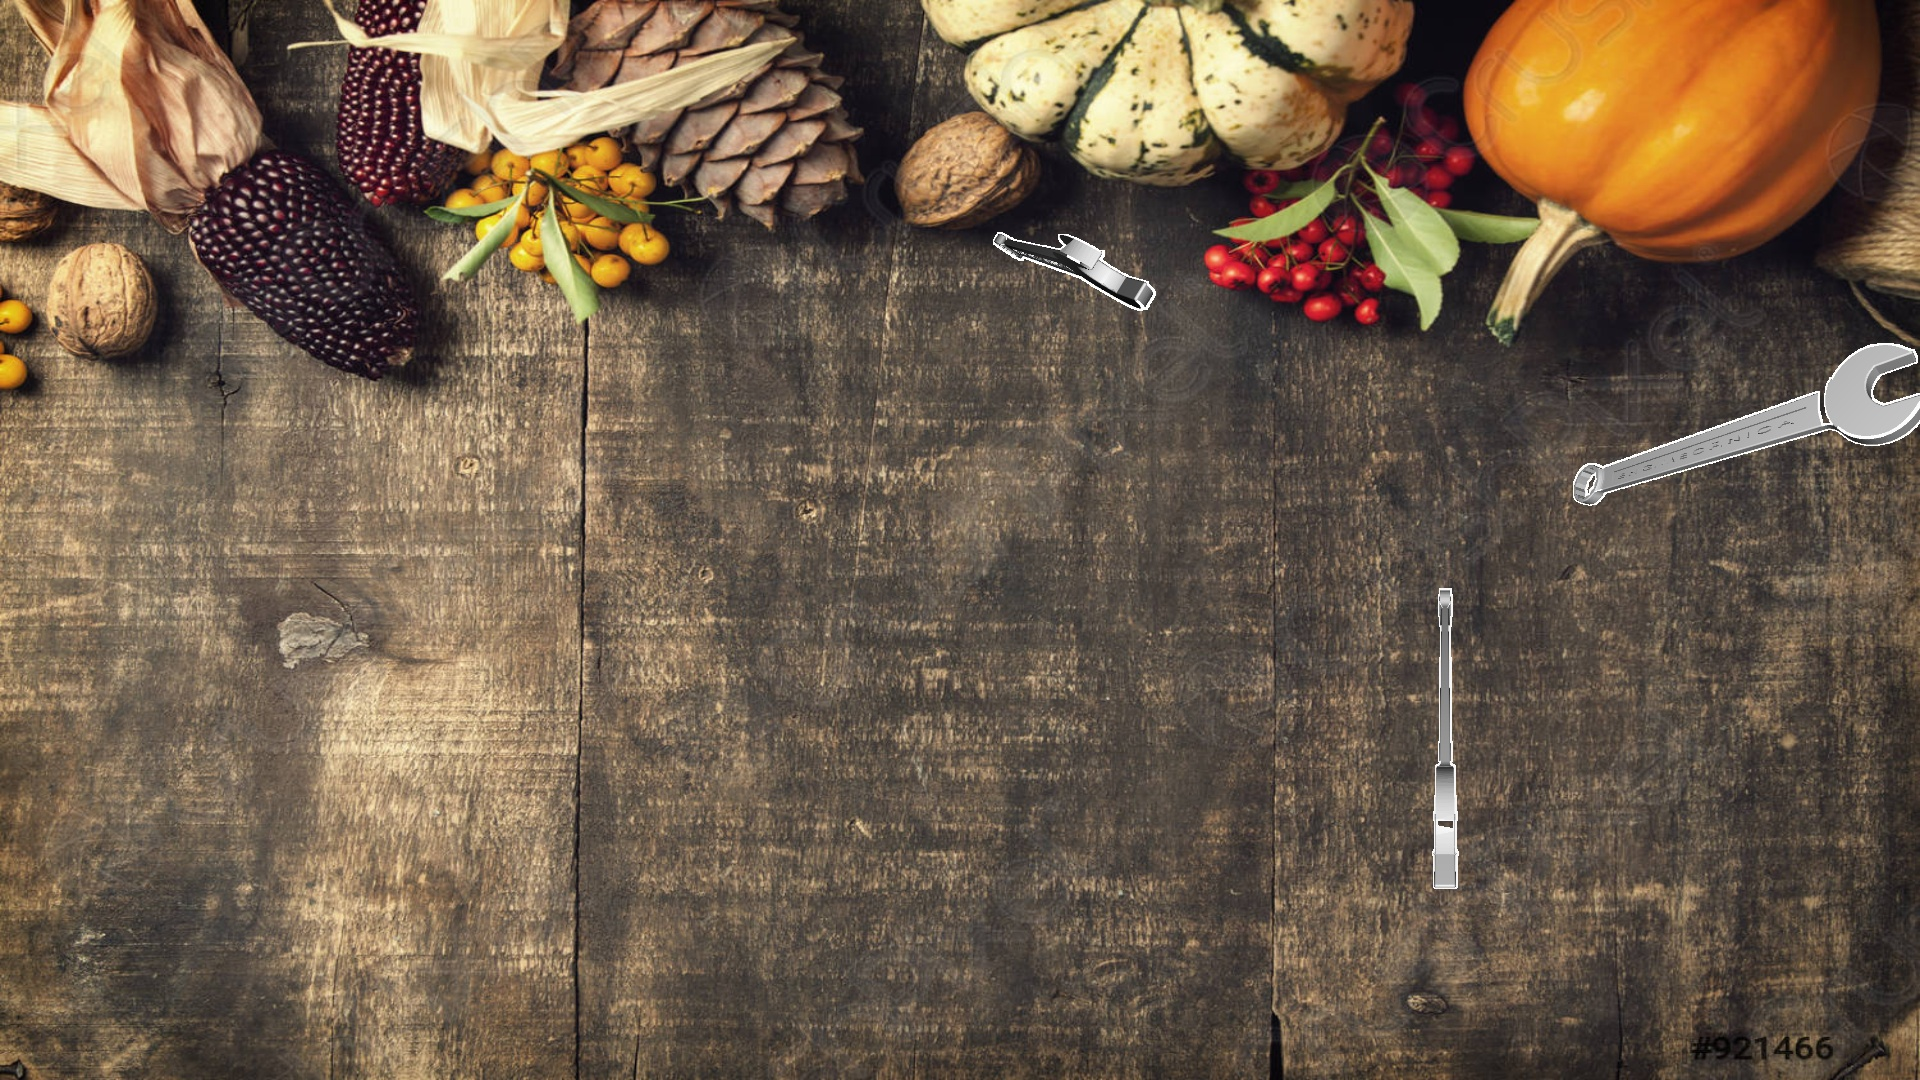Mixed Key: (945, 257, 1387, 651), (1530, 360, 1812, 862), (1659, 0, 1913, 397), (1573, 343, 1919, 505), (993, 232, 1155, 310), (1432, 588, 1458, 887), (1808, 0, 1919, 49)
